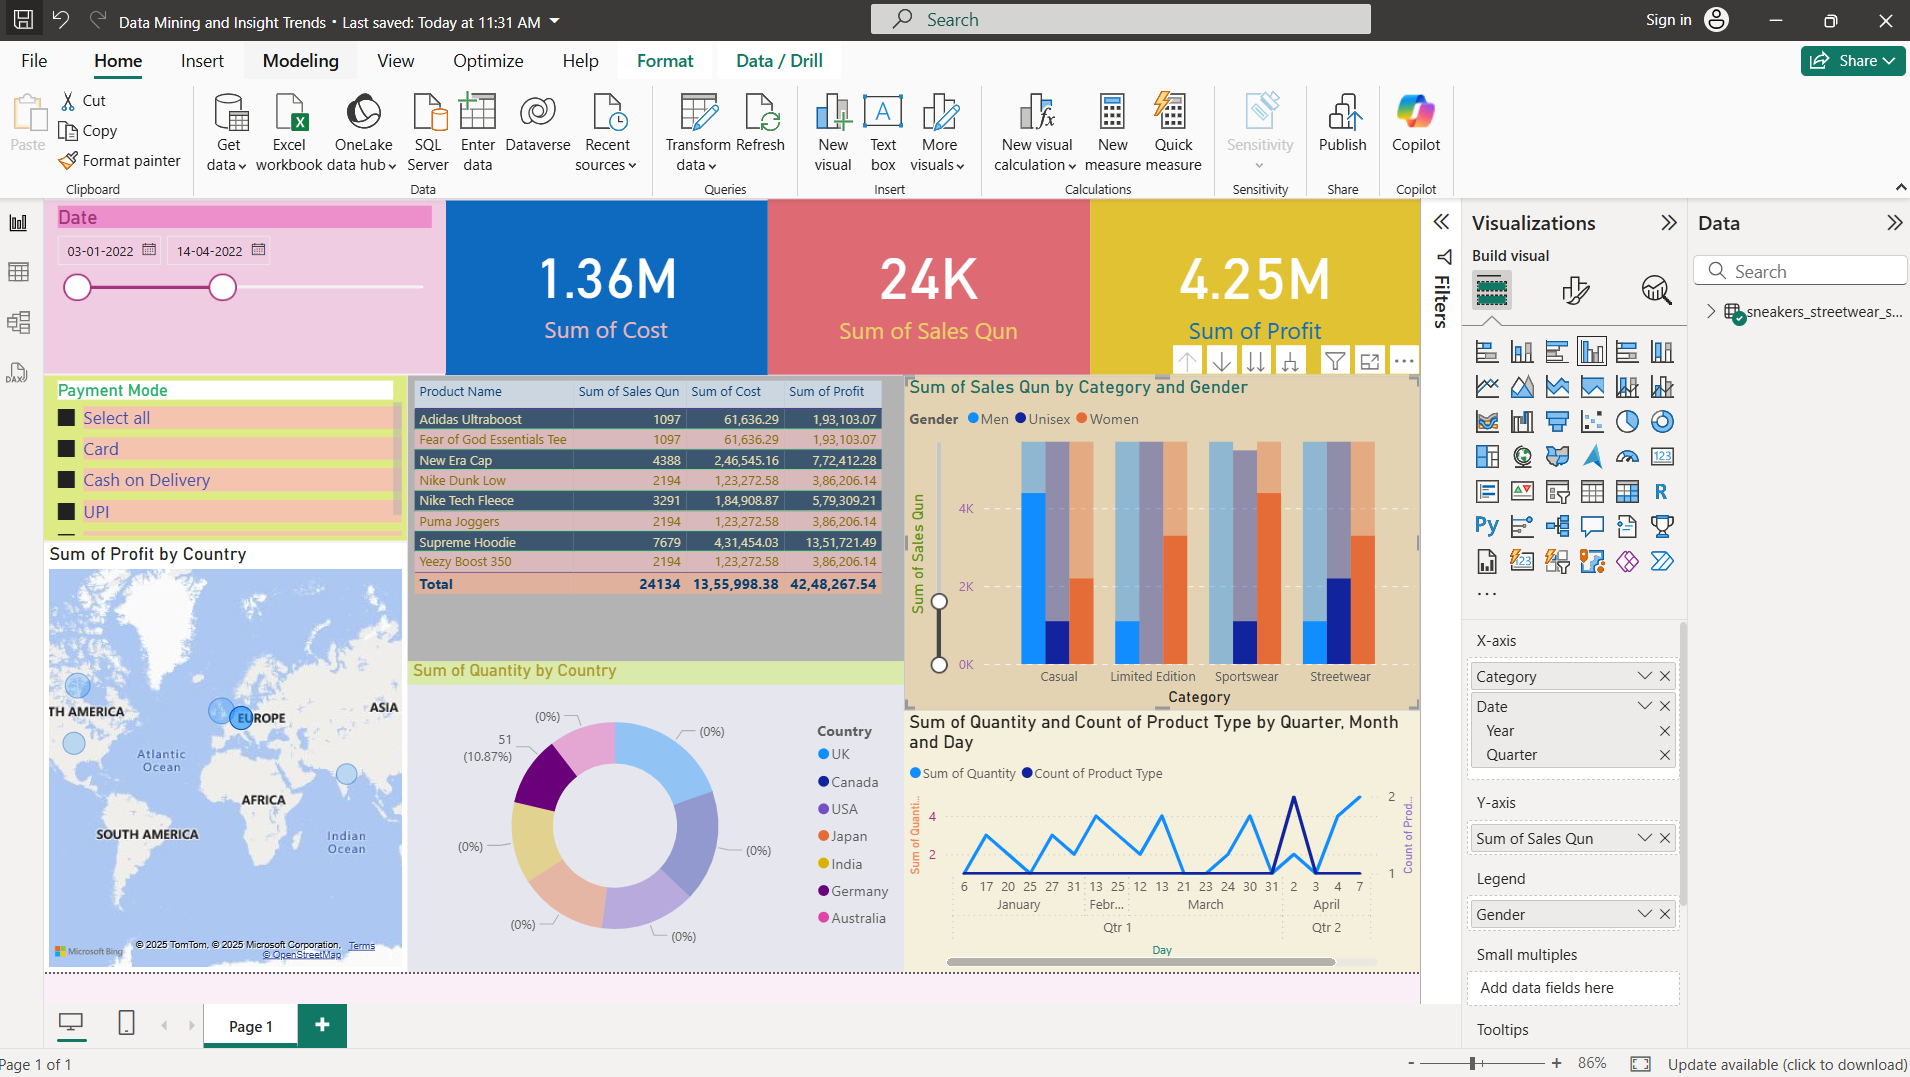

Layout of this report page (visuals, bound fields, positions):
{"tool":"powerbi","page":{"name":"Page 1","canvas":[1280,720],"ordinal":0},"visuals":[{"type":"card","fields":{"Values":["Sum(sneakers_streetwear_sales_data.Sum of Sales Quantity)"]},"box":[673.3,1.2,299.8,163.4],"z":0},{"type":"card","fields":{"Values":["Sum(sneakers_streetwear_sales_data.Sum of Cost Unit Price)"]},"box":[373.5,2.5,299.8,162.2],"z":1000},{"type":"card","fields":{"Values":["Sum(sneakers_streetwear_sales_data.Sum of Profit Amount)"]},"box":[973.1,1.2,307.2,163.4],"z":2000},{"type":"clusteredColumnChart","fields":{"Category":["sneakers_streetwear_sales_data.Category","sneakers_streetwear_sales_data.Date.Variation.Date Hierarchy.Year","sneakers_streetwear_sales_data.Date.Variation.Date Hierarchy.Quarter"],"Y":["Sum(sneakers_streetwear_sales_data.Sales Qun)"],"Series":["sneakers_streetwear_sales_data.Gender"]},"box":[800,165.1,480.2,311.6],"z":3000},{"type":"lineChart","fields":{"Category":["sneakers_streetwear_sales_data.Date.Variation.Date Hierarchy.Quarter","sneakers_streetwear_sales_data.Date.Variation.Date Hierarchy.Month","sneakers_streetwear_sales_data.Date.Variation.Date Hierarchy.Day"],"Y2":["CountNonNull(sneakers_streetwear_sales_data.Product Type)"],"Y":["Sum(sneakers_streetwear_sales_data.Quantity)"]},"box":[799.8,476.7,480.4,243.3],"z":4000},{"type":"donutChart","fields":{"Y":["Sum(sneakers_streetwear_sales_data.Quantity)"],"Category":["sneakers_streetwear_sales_data.Country"]},"box":[337.9,430,462,290],"z":5000},{"type":"tableEx","fields":{"Values":["sneakers_streetwear_sales_data.Product Name","Sum(sneakers_streetwear_sales_data.Sales Quantity)","Sum(sneakers_streetwear_sales_data.Cost Unit Price)","Sum(sneakers_streetwear_sales_data.Profit Amount)"]},"box":[337.9,164.6,462,265.4],"z":6000},{"type":"map","fields":{"Category":["sneakers_streetwear_sales_data.Country"],"Size":["Sum(sneakers_streetwear_sales_data.Profit)"]},"box":[0,320.7,337.9,399.3],"z":7000},{"type":"slicer","fields":{"Values":["sneakers_streetwear_sales_data.Payment Mode"]},"box":[0,164.6,337.9,153.6],"z":8000},{"type":"slicer","fields":{"Values":["sneakers_streetwear_sales_data.Date"]},"box":[0,2.5,373.5,161],"z":9000}]}

Visuals, with their boxes on the page's 1280x720 design canvas (x1, y1, x2, y2). These are canvas units, not pixel positions in the 1910x1077 screenshot, which may show the page scaled, cropped or inside an application window:
card - Sum(sneakers_streetwear_sales_data.Sum of Sales Quantity): 673:1:973:165
card - Sum(sneakers_streetwear_sales_data.Sum of Cost Unit Price): 374:2:673:165
card - Sum(sneakers_streetwear_sales_data.Sum of Profit Amount): 973:1:1280:165
clusteredColumnChart - sneakers_streetwear_sales_data.Category x sneakers_streetwear_sales_data.Date.Variation.Date Hierarchy.Year: 800:165:1280:477
lineChart - sneakers_streetwear_sales_data.Date.Variation.Date Hierarchy.Quarter x sneakers_streetwear_sales_data.Date.Variation.Date Hierarchy.Month: 800:477:1280:720
donutChart - Sum(sneakers_streetwear_sales_data.Quantity) x sneakers_streetwear_sales_data.Country: 338:430:800:720
tableEx - sneakers_streetwear_sales_data.Product Name x Sum(sneakers_streetwear_sales_data.Sales Quantity): 338:165:800:430
map - sneakers_streetwear_sales_data.Country x Sum(sneakers_streetwear_sales_data.Profit): 0:321:338:720
slicer - sneakers_streetwear_sales_data.Payment Mode: 0:165:338:318
slicer - sneakers_streetwear_sales_data.Date: 0:2:374:164
